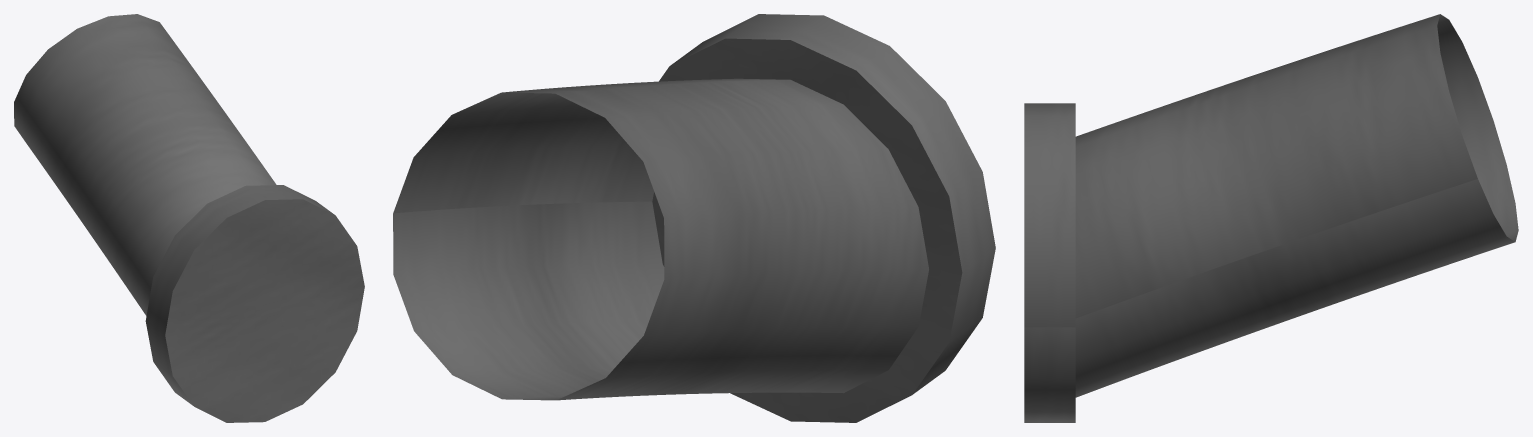
The model's file is mastarmcurve_10x2_c0.obj.
The picture shows the model from 3 angles, left to right: view 1: azimuth 30°, elevation 25°; view 2: azimuth 150°, elevation 25°; view 3: azimuth 270°, elevation 25°; orthographic projection. The views are drawn at different scales.
Visible parts, largest first — view 1: mastarm_10x2_c0; view 2: mastarm_10x2_c0; view 3: mastarm_10x2_c0.
Boxes of the visible parts, x1,y1,x2,y2 form: mastarm_10x2_c0: (14, 14, 364, 422); mastarm_10x2_c0: (393, 14, 995, 422); mastarm_10x2_c0: (1024, 14, 1518, 422).
Size of the model in its own units: 0.775 by 1.08 by 1.26.
